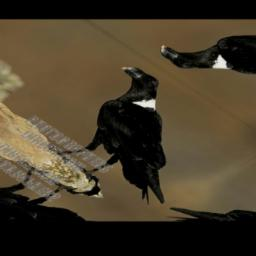Crow: (7, 62, 256, 217)
